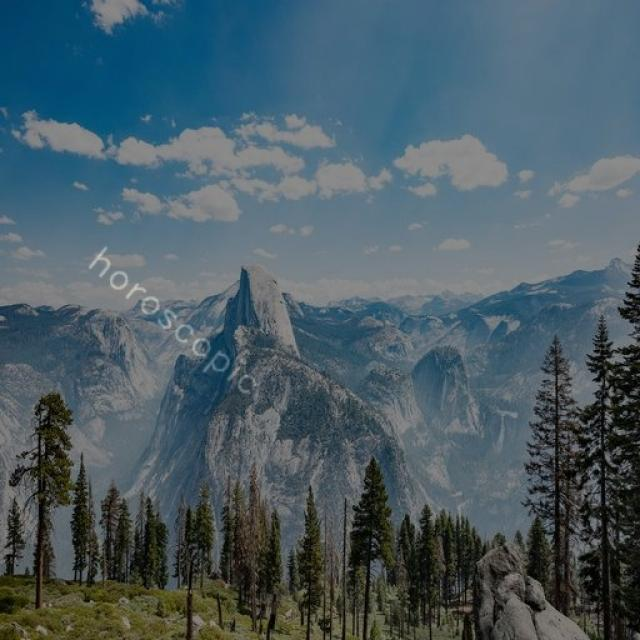watermark: (76, 235, 276, 404)
